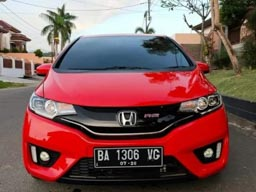plat: (94, 148, 162, 160)
